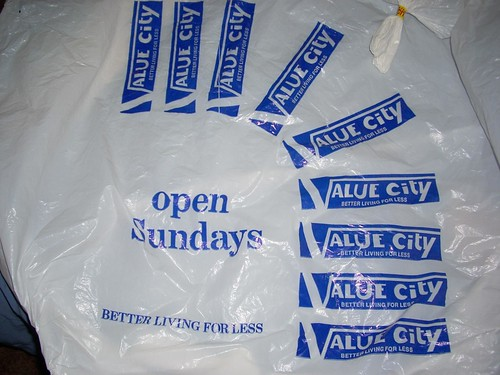plastic bag: (1, 1, 500, 375)
